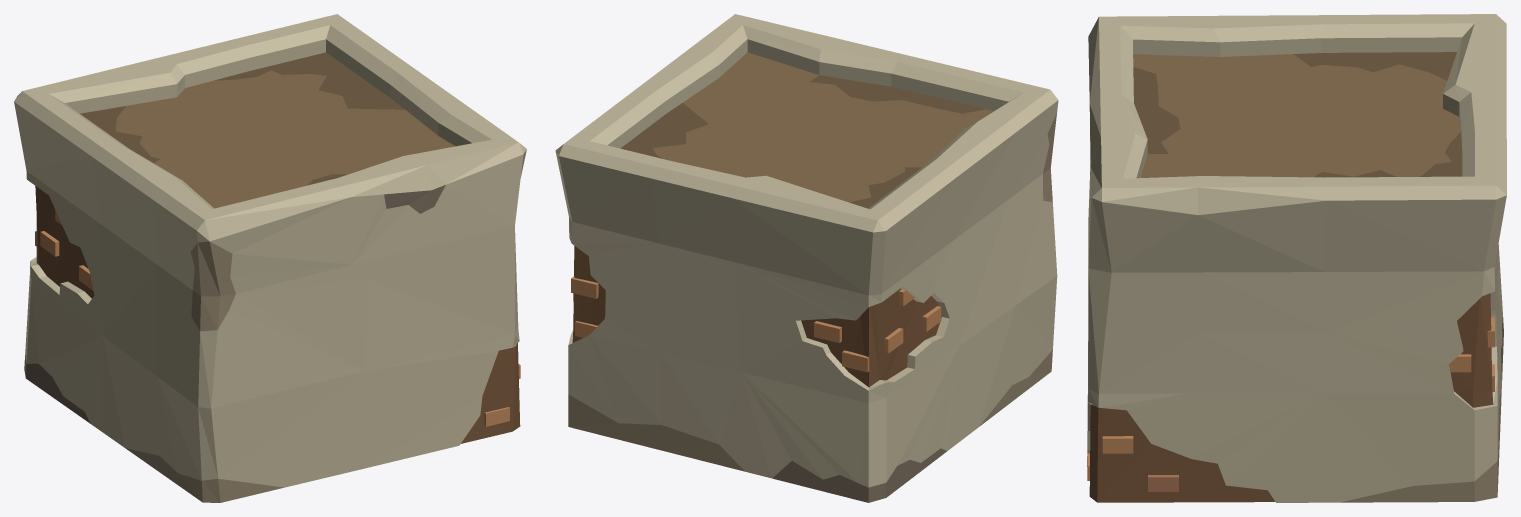
The model's file is house_c.glb.
3 renders of one model, left to right at view 1: azimuth 30°, elevation 25°; view 2: azimuth 150°, elevation 25°; view 3: azimuth 270°, elevation 25°, orthographic. The views are drawn at different scales.
Visible parts, largest first — view 1: SM_Bld_Village_03; view 2: SM_Bld_Village_03; view 3: SM_Bld_Village_03.
Boxes of the visible parts, x1=… form: SM_Bld_Village_03: x1=14, y1=14, x2=526, y2=502; SM_Bld_Village_03: x1=555, y1=14, x2=1058, y2=502; SM_Bld_Village_03: x1=1087, y1=14, x2=1506, y2=502.
Size of the model in its own units: 409 by 329 by 397.
1 material, 1 textured.
